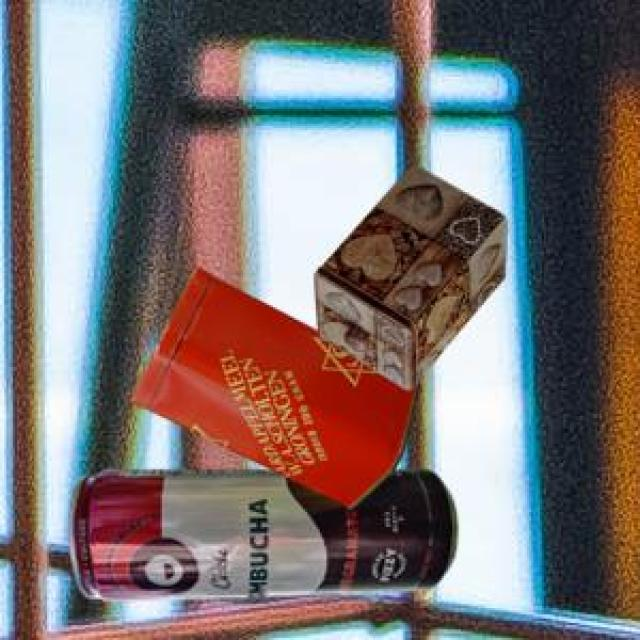logam: (127, 266, 417, 507), (67, 466, 453, 598), (313, 161, 505, 387)
